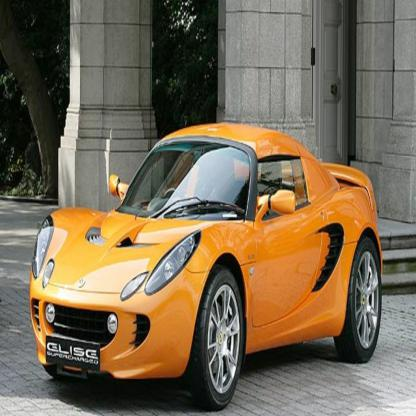Car: (29, 122, 383, 410)
